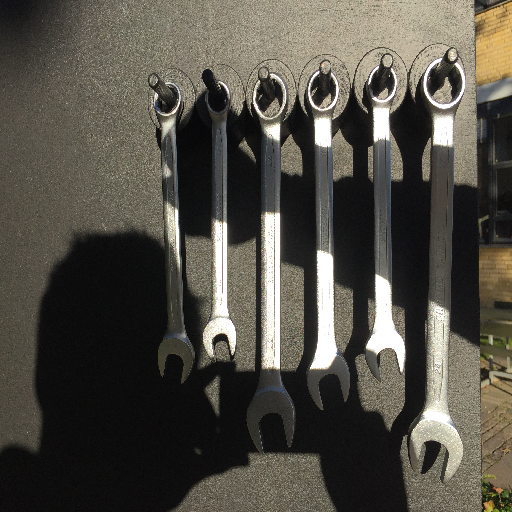bottom: (407, 410, 463, 483), (244, 388, 297, 458), (304, 349, 351, 412), (363, 328, 407, 382), (156, 334, 195, 386), (201, 317, 238, 364)
top: (420, 56, 466, 114), (251, 73, 289, 125), (305, 69, 340, 117), (364, 63, 399, 109), (203, 79, 234, 120), (153, 81, 185, 119)
